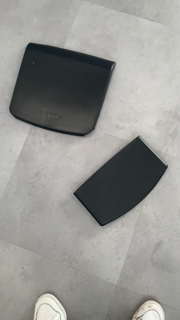Back: (70, 133, 173, 230)
Seat: (9, 41, 119, 140)
